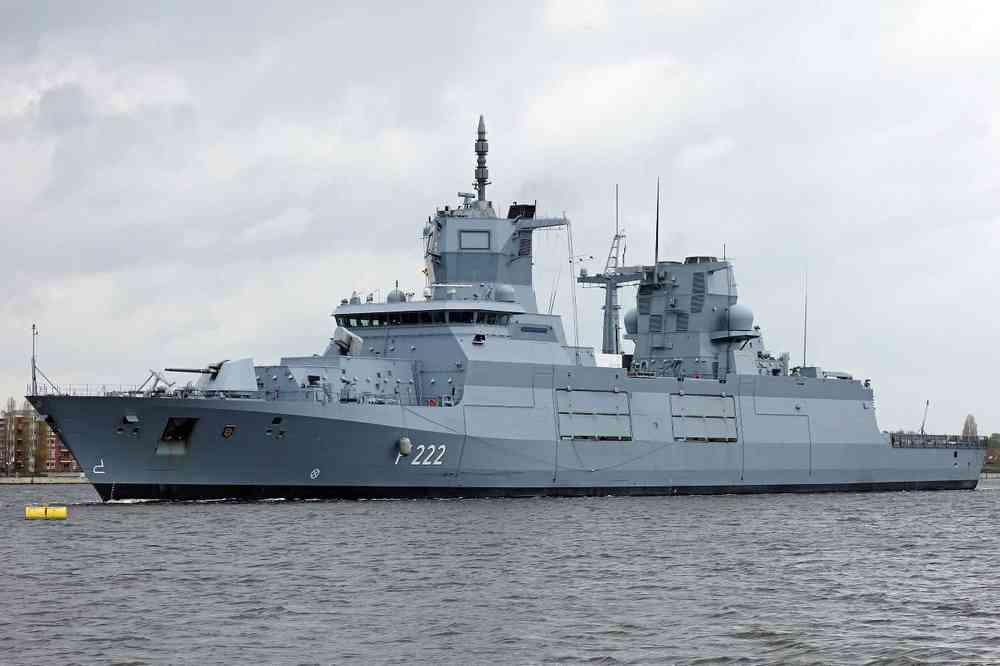warship: (22, 108, 1000, 504)
